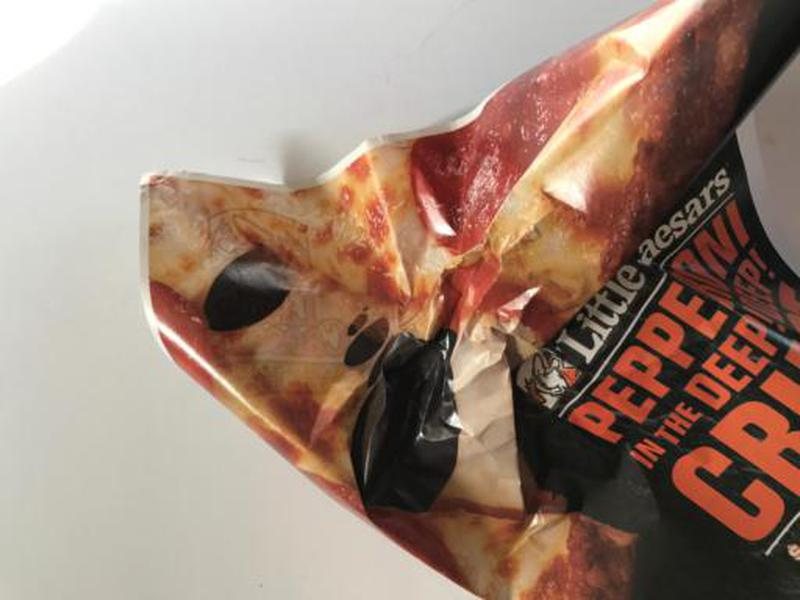paper: (131, 1, 800, 600)
